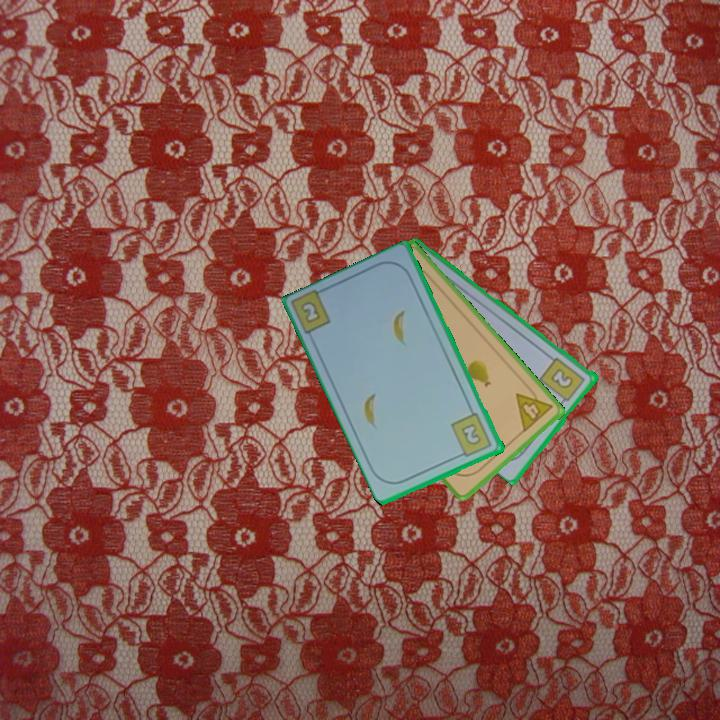2b: (536, 354, 588, 408), (448, 410, 495, 460), (300, 300, 322, 324)
4p: (512, 381, 556, 435)
